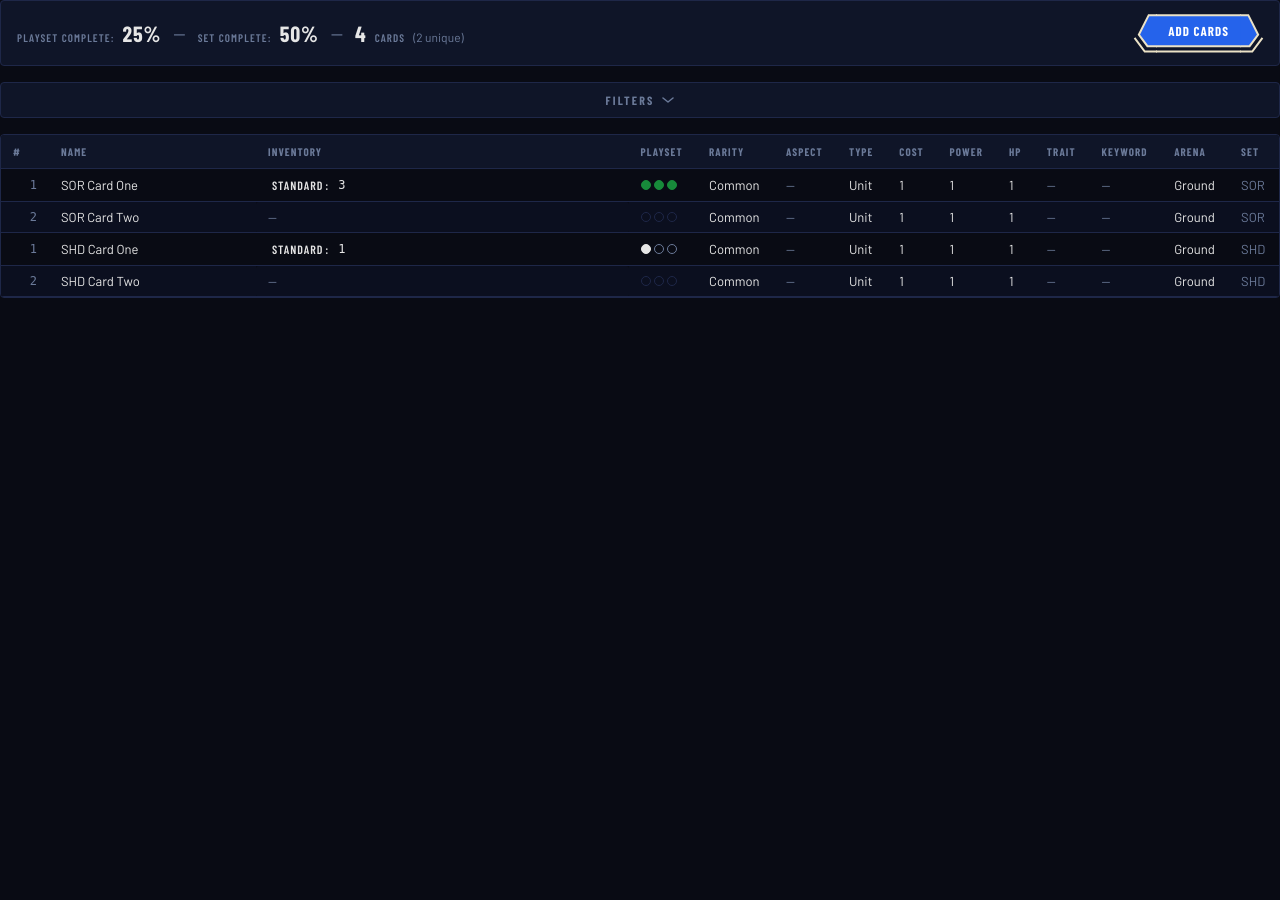
InventoryPage popup wiring (Inventory tab redesign) › clicking a card name opens CardDetailPopup for that base card
Click the button "SOR Card One" at (100, 185), box [61, 177, 138, 193]
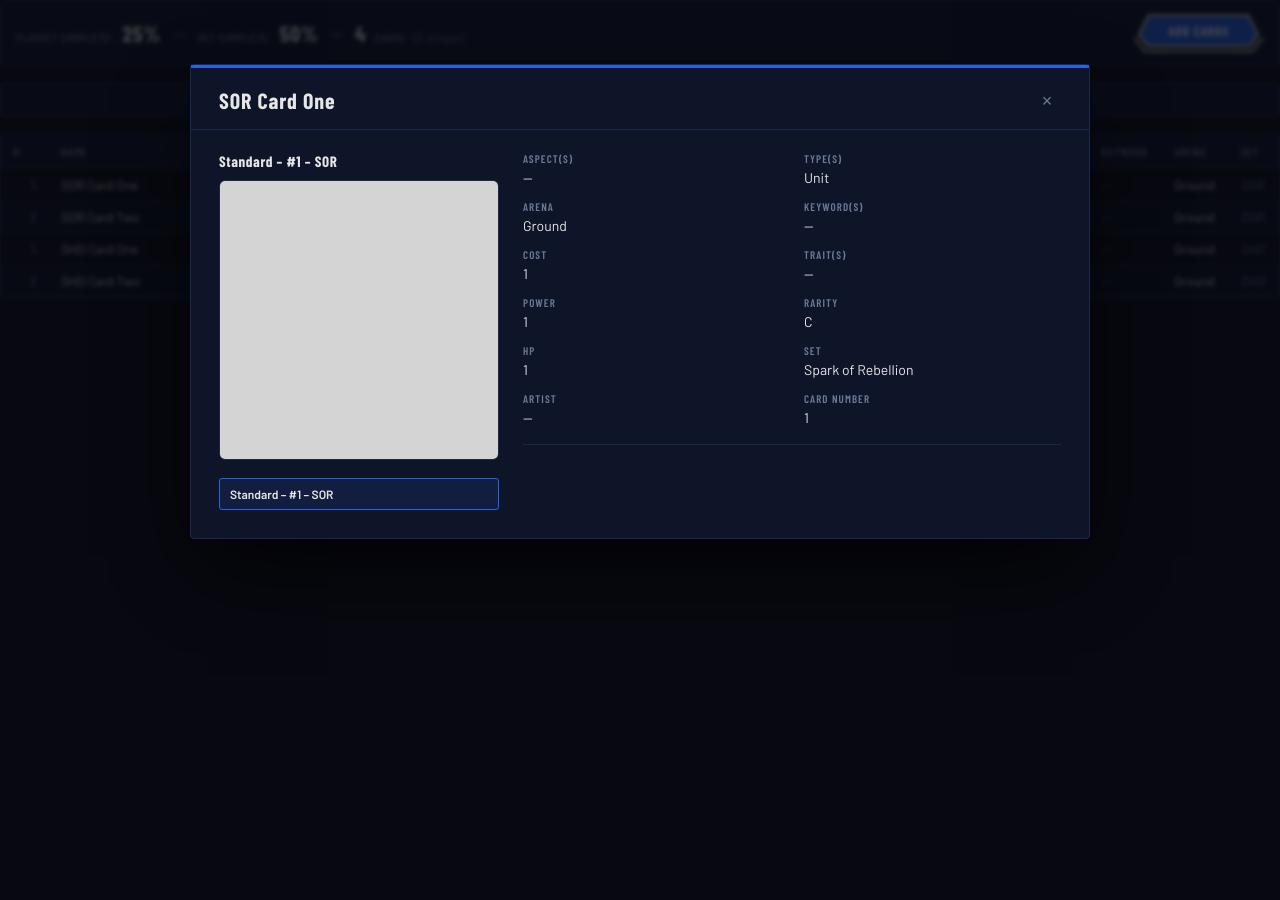
Result: the dialog is shown at [190, 64, 1090, 539]
